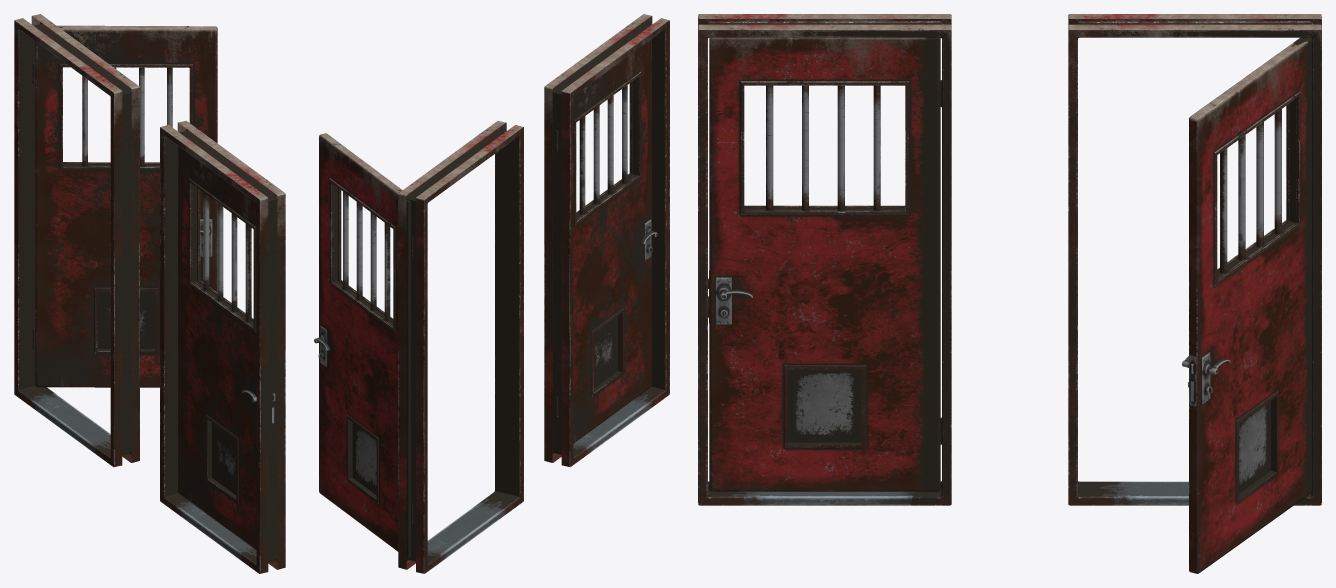
The model's file is door__prison_door_metal_old_-12mb.glb.
3 views of the same model, side by side, from view 1: azimuth 30°, elevation 25°; view 2: azimuth 150°, elevation 25°; view 3: azimuth 270°, elevation 25° (orthographic). The views are drawn at different scales.
Visible parts, largest first — view 1: prison_door, prison_door_2_3, prison_door_2, prison_door_2_2; view 2: prison_door, prison_door_2, prison_door_2_3, prison_door_2_2; view 3: prison_door_2_3, prison_door, prison_door_2_2, prison_door_2.
Part boxes in pixels (x1,y1,x2,y2): prison_door: (32, 25, 217, 387); prison_door_2_3: (178, 146, 275, 550); prison_door_2: (14, 14, 139, 467); prison_door_2_2: (160, 120, 285, 573); prison_door: (314, 133, 413, 558); prison_door_2: (398, 121, 523, 573); prison_door_2_3: (555, 39, 657, 443); prison_door_2_2: (544, 14, 669, 467); prison_door_2_3: (708, 37, 941, 491); prison_door: (1182, 37, 1311, 573); prison_door_2_2: (698, 14, 951, 505); prison_door_2: (1068, 14, 1321, 505).
Bounding box in the file's own units: 1.21 × 2.78 × 3.31.
Materials: 1 (1 with a texture image).
